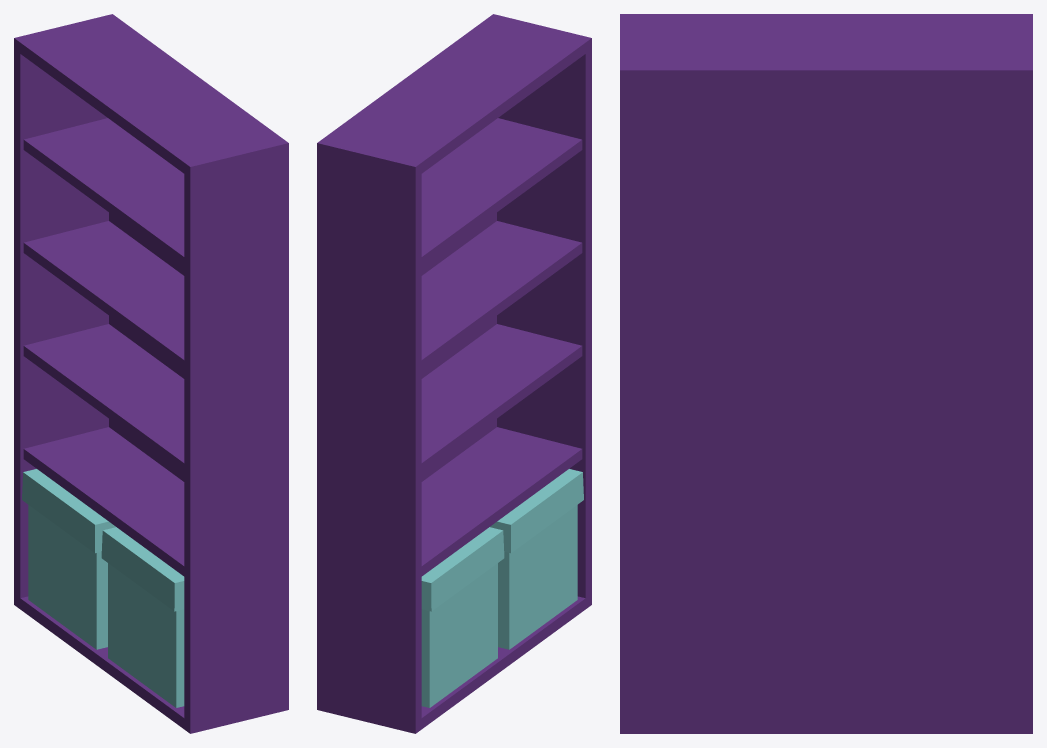
The model's file is furniture_decor_210009.glb.
The picture shows the model from 3 angles, left to right: view 1: azimuth 30°, elevation 25°; view 2: azimuth 150°, elevation 25°; view 3: azimuth 270°, elevation 25°; orthographic projection. The views are drawn at different scales.
Visible parts, largest first — view 1: furniture_decor_210009; view 2: furniture_decor_210009; view 3: furniture_decor_210009.
Boxes of the visible parts, left/top/right/bottom form: furniture_decor_210009: left=14, top=14, right=288, bottom=733; furniture_decor_210009: left=317, top=14, right=591, bottom=733; furniture_decor_210009: left=620, top=14, right=1032, bottom=733.
Size of the model in its own units: 0.3124 by 1.65 by 0.93.
1 material, 1 textured.
